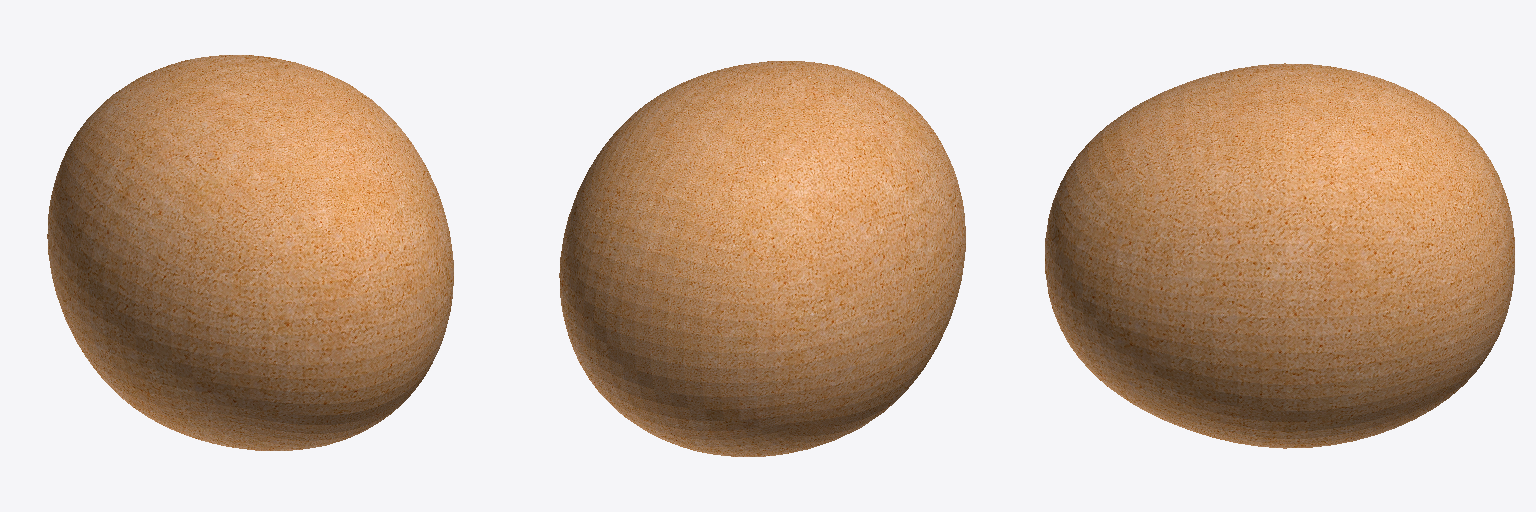
The picture shows the model from 3 angles: view 1: azimuth 30°, elevation 25°; view 2: azimuth 150°, elevation 25°; view 3: azimuth 270°, elevation 25°; orthographic projection.
Visible parts, largest first — view 1: default001; view 2: default001; view 3: default001.
Boxes of the visible parts, x1,y1,x2,y2 form: default001: [47, 55, 453, 450]; default001: [559, 61, 965, 456]; default001: [1045, 63, 1514, 448].
Bounding box in the file's own units: 3.29 × 3.29 × 4.09.
1 materials, 1 textured.